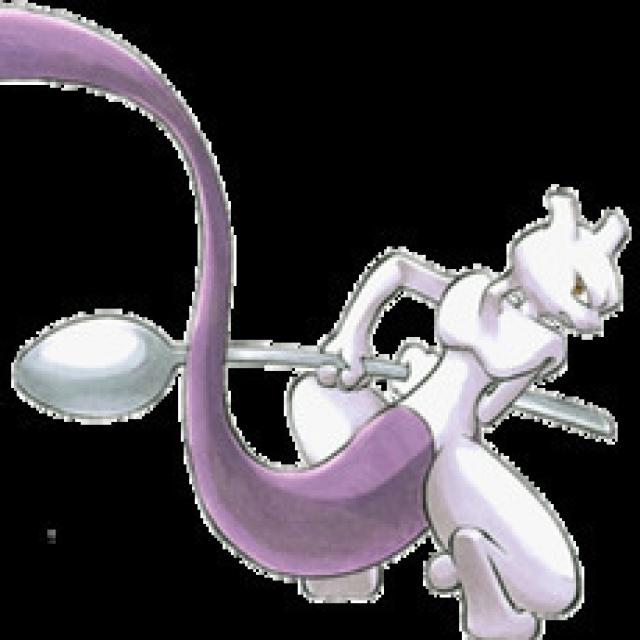Mewtwo: (274, 179, 640, 615)
